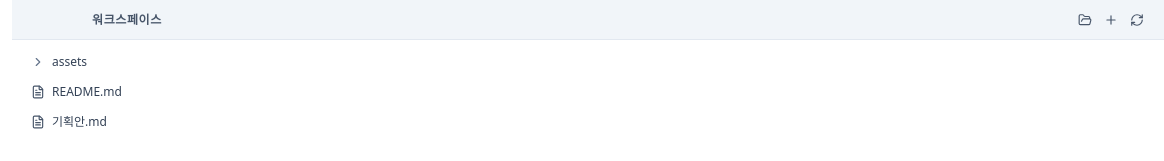
Test case: 빈 공간 우클릭 메뉴도 "새 문서" 류를 보여준다(entry=null 분기)
Right-click the text "워크스페이스": (588,72) [12, 0, 1163, 144]
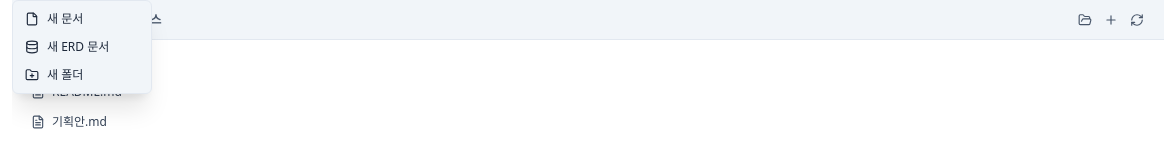
Result: the text "새 문서" is shown at [47, 11, 83, 27]
